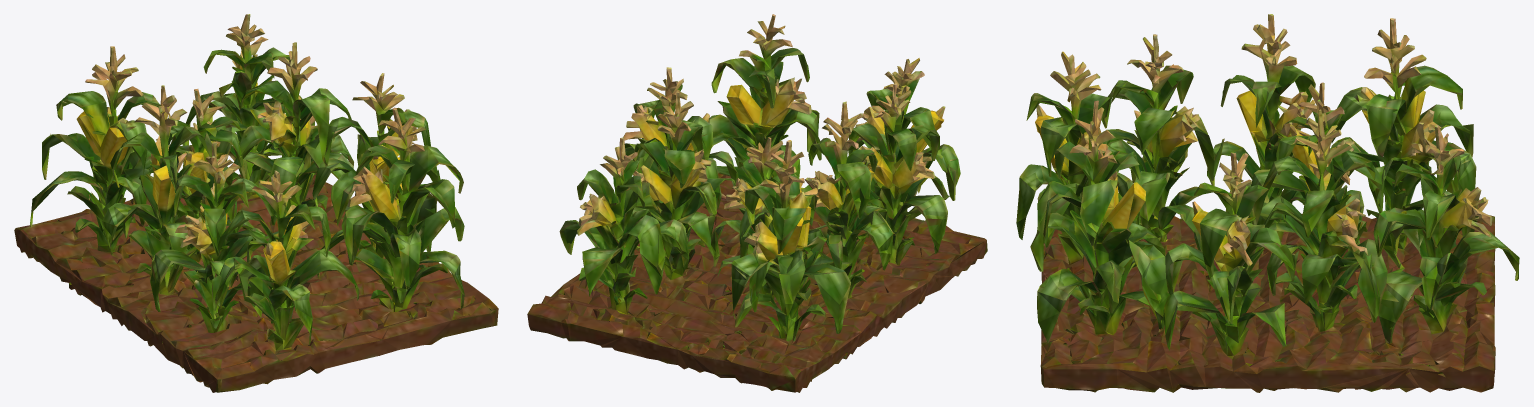
Rendered from cornTile.glb.
3 renders of one model, left to right at view 1: azimuth 30°, elevation 25°; view 2: azimuth 150°, elevation 25°; view 3: azimuth 270°, elevation 25°, orthographic. The views are drawn at different scales.
Parts seen in each view (by area): view 1: geometry_0; view 2: geometry_0; view 3: geometry_0.
Part boxes in pixels (x1,y1,x2,y2): geometry_0: (14, 14, 498, 392); geometry_0: (527, 14, 987, 392); geometry_0: (1016, 14, 1519, 392).
Size of the model in its own units: 0.8293 by 0.5558 by 0.9993.
1 material, 1 textured.
